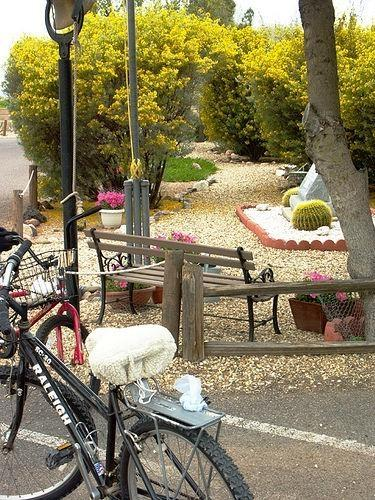bicycle: (1, 240, 255, 500), (27, 247, 92, 365)
